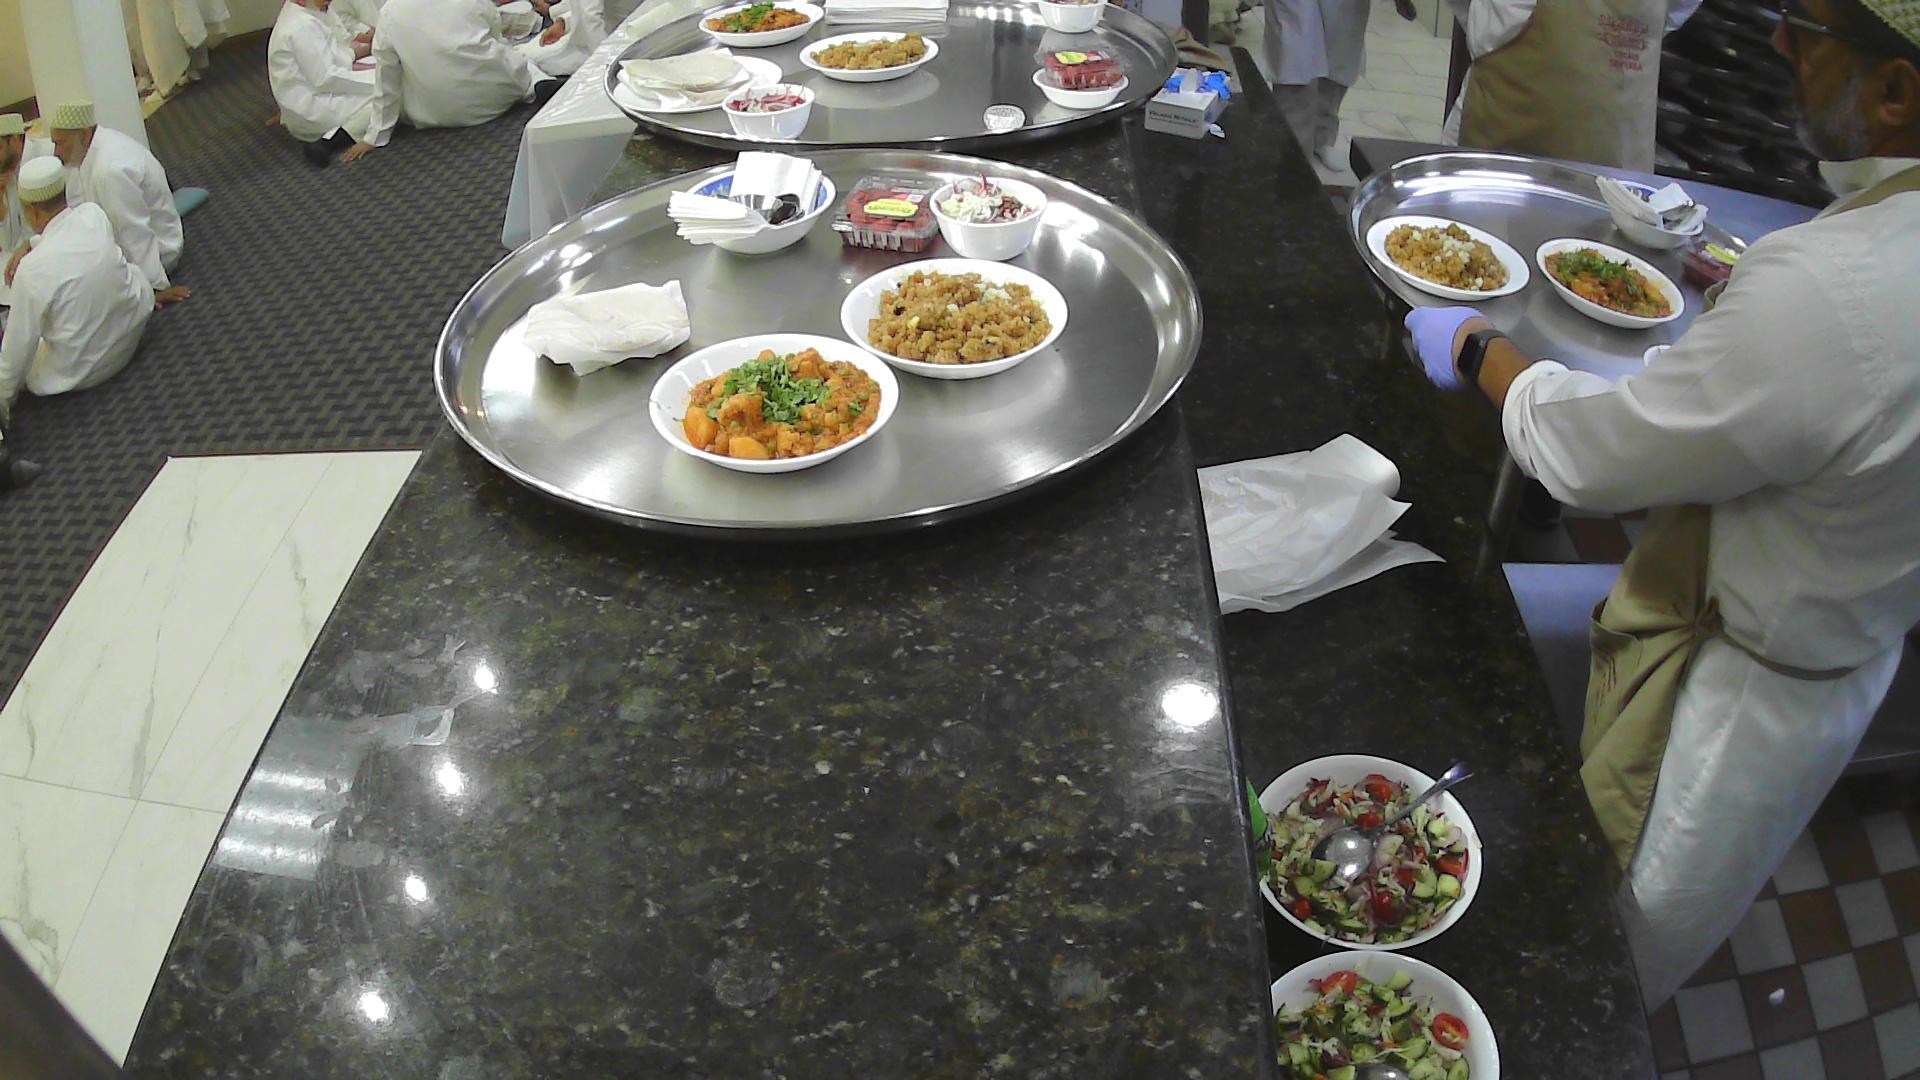thaal: (431, 145, 1207, 545), (1346, 149, 1754, 385), (601, 0, 1178, 156)
